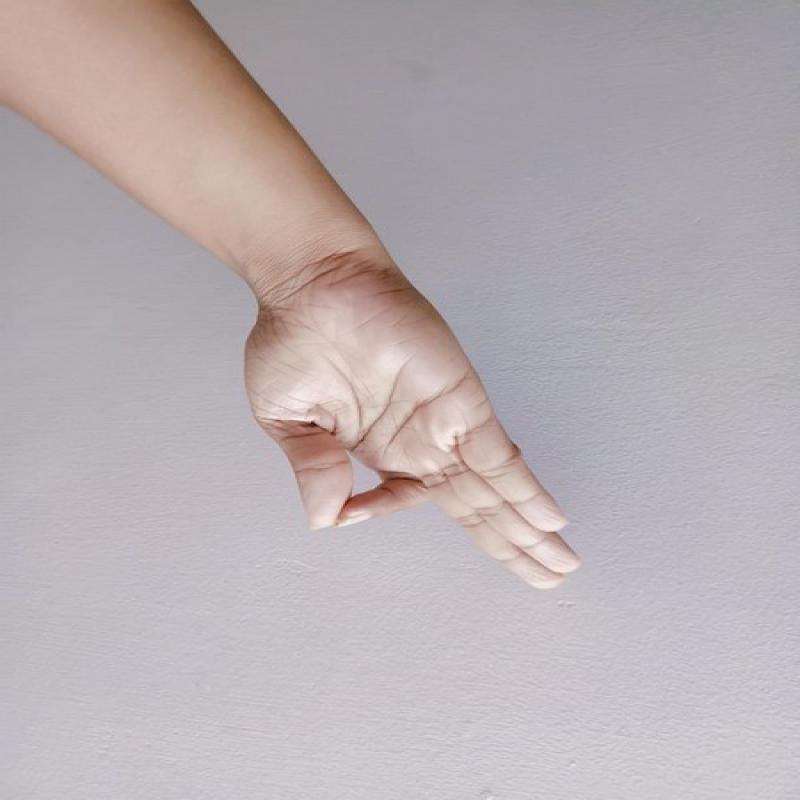Mudraakhyam: (228, 270, 590, 608)
